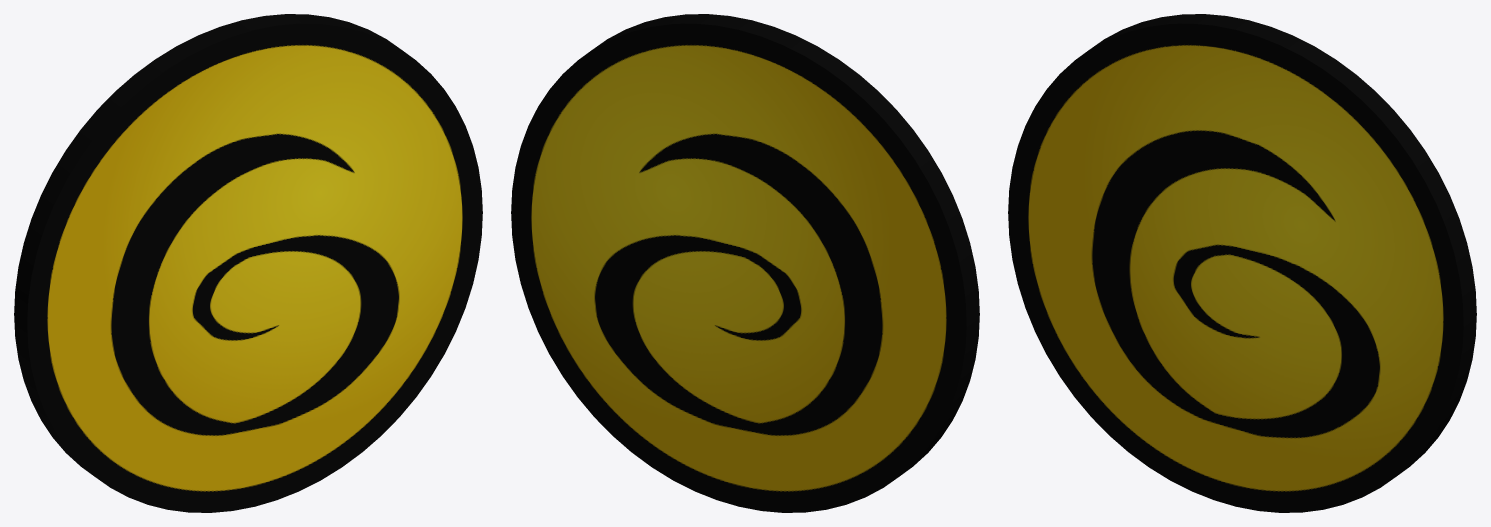
The model's file is AmberBall.fbx.
3 views of the same model, side by side, from view 1: azimuth 30°, elevation 25°; view 2: azimuth 150°, elevation 25°; view 3: azimuth 330°, elevation 25° (orthographic).
Parts seen in each view (by area): view 1: M_AmberBall; view 2: M_AmberBall; view 3: M_AmberBall.
Part boxes in pixels (x1,y1,x2,y2): M_AmberBall: [14, 14, 482, 512]; M_AmberBall: [511, 14, 979, 512]; M_AmberBall: [1008, 14, 1476, 512].
Bounding box in the file's own units: 100 × 100 × 5.
Materials: 1 (1 with a texture image).
